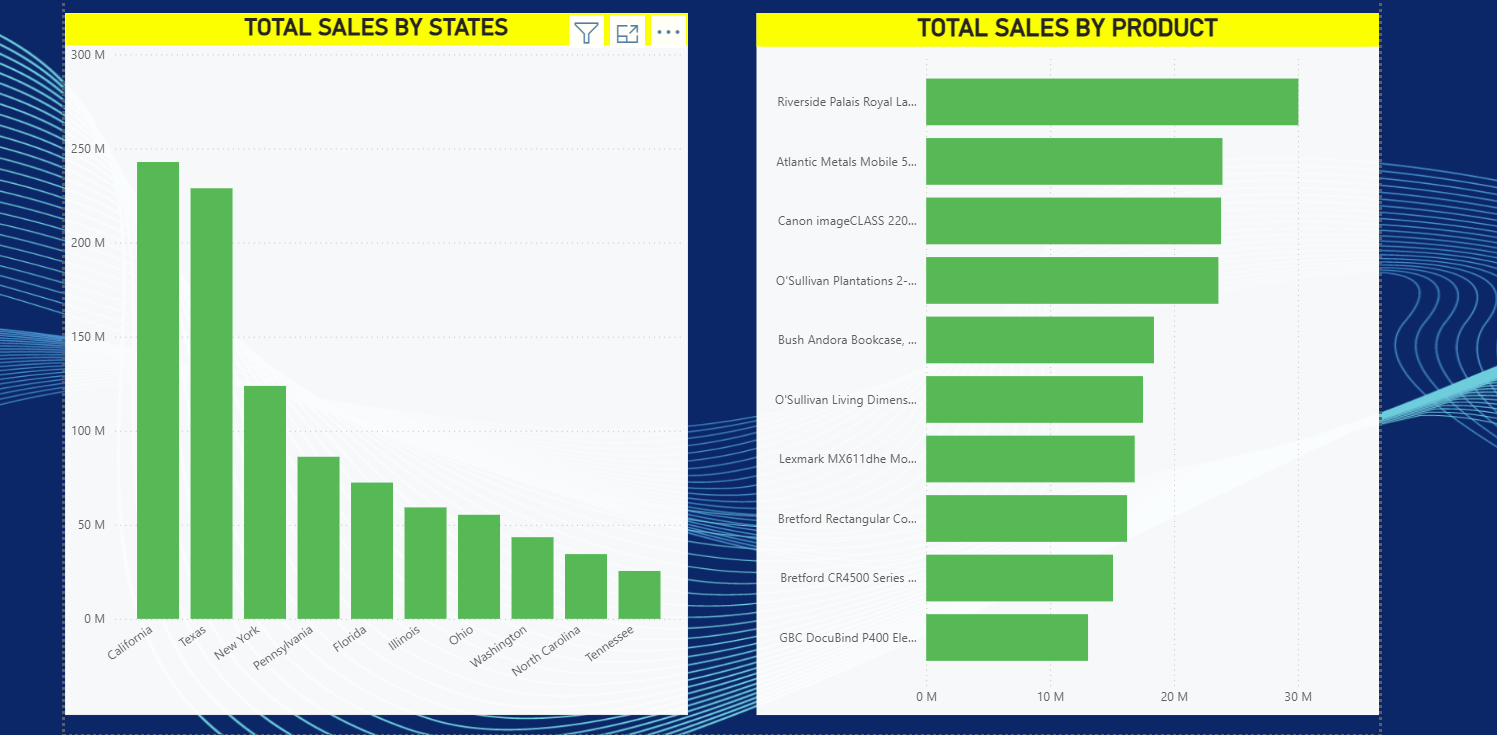

Layout of this report page (visuals, bound fields, positions):
{"tool":"powerbi","page":{"name":"3. sayfa","canvas":[1280,720],"ordinal":2},"visuals":[{"type":"columnChart","title":"TOTAL SALES BY STATES","fields":{"Category":["train.State"],"Y":["train.TOTAL SALES"]},"box":[0,17.5,606.5,684],"z":0},{"type":"clusteredBarChart","title":"TOTAL SALES BY PRODUCT","fields":{"Category":["train.Product Name"],"Y":["train.TOTAL SALES"]},"box":[673.7,17.5,606.5,684],"z":1}]}

Visuals, with their boxes on the page's 1280x720 design canvas (x1, y1, x2, y2). These are canvas units, not pixel positions in the 1497x735 screenshot, which may show the page scaled, cropped or inside an application window:
"TOTAL SALES BY STATES" columnChart: {"left": 0, "top": 18, "right": 606, "bottom": 702}
"TOTAL SALES BY PRODUCT" clusteredBarChart: {"left": 674, "top": 18, "right": 1280, "bottom": 702}
